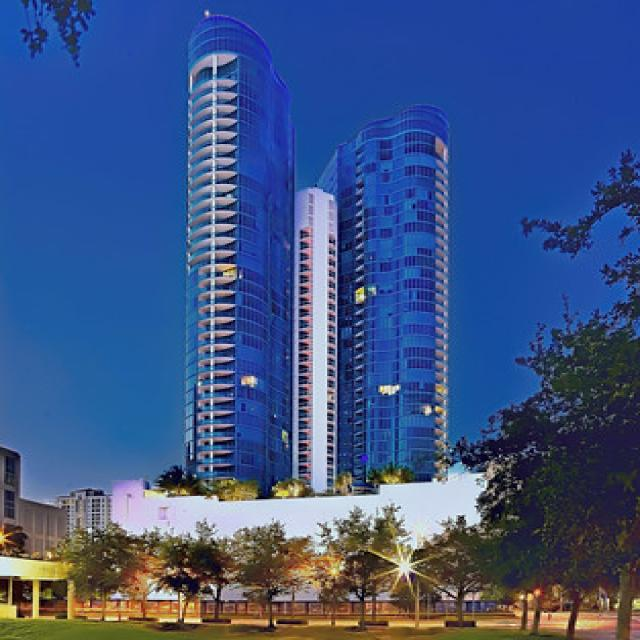building: (185, 7, 296, 500), (321, 102, 454, 496), (294, 183, 338, 502)
